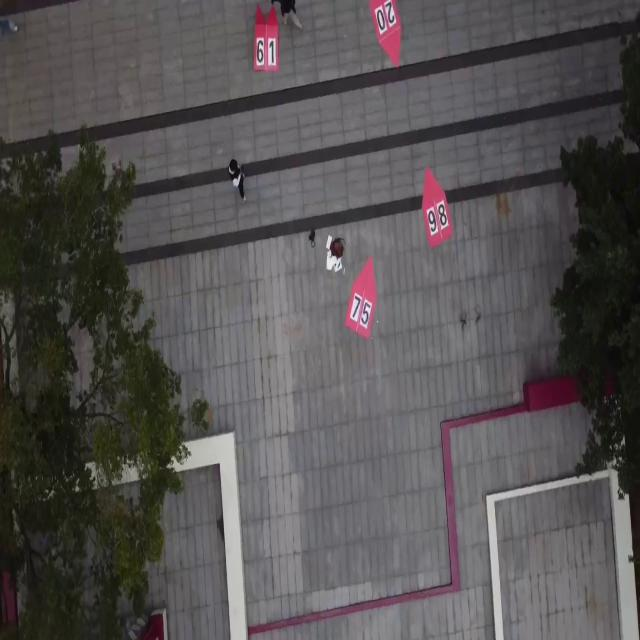-sign-: (414, 147, 459, 255), (341, 254, 388, 346), (370, 0, 405, 81)
